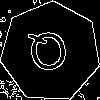Q: (25, 27, 72, 82)
